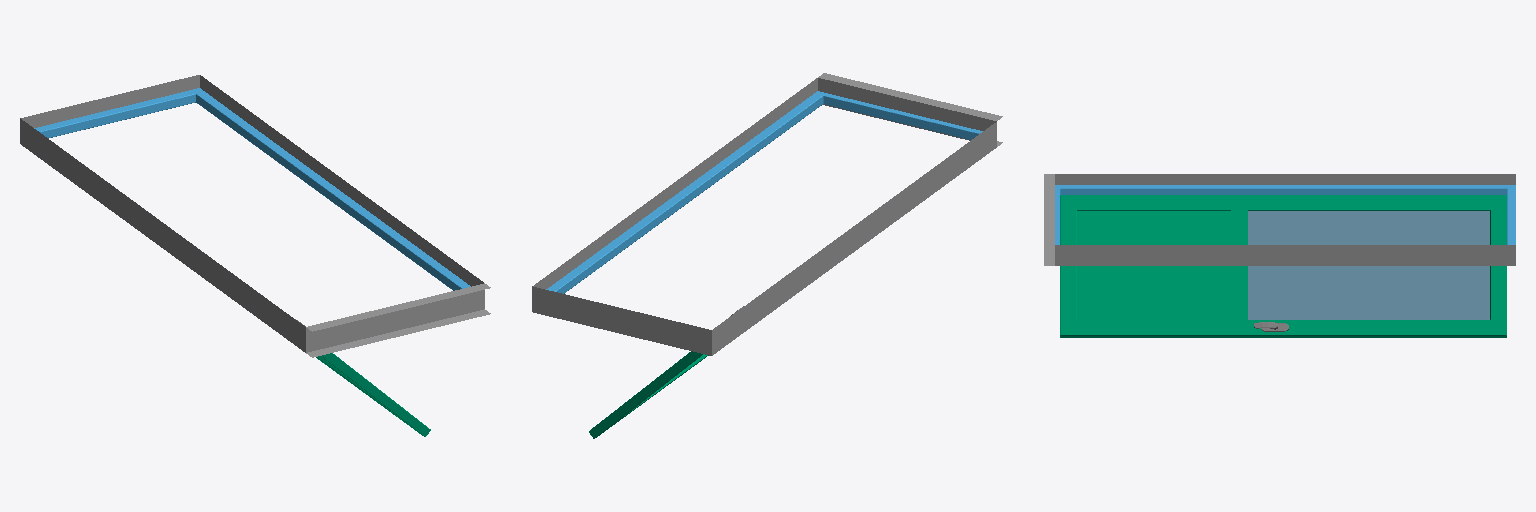
URDF robot description (247):
<robot name="247">


	<link name="0:virtual">
		<visual>
			<origin xyz="0.0 0.0 0.0" rpy="0 0 0"/>
			<geometry>
				<cylinder length="0" radius="0"/>
			</geometry>
		</visual>
	</link>


	<link name="1:static">
		<visual>
			<origin xyz="-0.0 -0.0 -0.0" rpy="0 0 0"/>
			<geometry>
				<mesh filename="../raw_data/247/part_meshes/1.dae" />
			</geometry>
		</visual>
	</link>


	<link name="2:door 1">
		<visual>
			<origin xyz="0.3643872955259246 -1.455000002980232 0.04707076504483003" rpy="0 0 0"/>
			<geometry>
				<mesh filename="../raw_data/247/part_meshes/2.dae" />
			</geometry>
		</visual>
	</link>


	<joint name="0:virtual::1:static" type="fixed">
		<parent link="0:virtual"/>
		<child link="1:static"/>
		<origin xyz="0.0 0.0 0.0" rpy="0 0 0"/>
	</joint>


	<joint name="0:virtual::2:door 1_rotation" type="revolute">
		<parent link="0:virtual"/>
		<child link="2:door 1"/>
		<origin xyz="-0.3643872955259246 1.455000002980232 -0.04707076504483003" rpy="0 0 0"/>
		<limit lower="-0.8639379797371932" upper="1.4451326206513049" effort="10" velocity="3"/>
		<axis xyz="0.0 1.0 0.0"/>
	</joint>


</robot>

--- What the picture shows (computed from the rendered views, not written in the file) ---
Views: 3 orthographic renders of the robot side by side, from view 1: azimuth 30°, elevation 25°; view 2: azimuth 150°, elevation 25°; view 3: azimuth 270°, elevation 25°.
Model 247 with 3 links and 2 joints (1 revolute, 1 fixed), rooted at 0:virtual, posed every joint at zero.
Visible links, largest first — view 1: 1:static, 2:door 1; view 2: 1:static, 2:door 1; view 3: 2:door 1, 1:static.
Link boxes in pixels (x1,y1,x2,y2): 1:static: [20, 75, 490, 357]; 2:door 1: [295, 319, 430, 436]; 1:static: [532, 73, 1002, 355]; 2:door 1: [589, 306, 743, 438]; 2:door 1: [1060, 195, 1506, 337]; 1:static: [1044, 174, 1515, 265].
Size in the robot's own frame: 0.8 by 2.25 by 0.61 metres.
2 mesh visuals loaded from 2 distinct referenced files (2 Collada DAE).